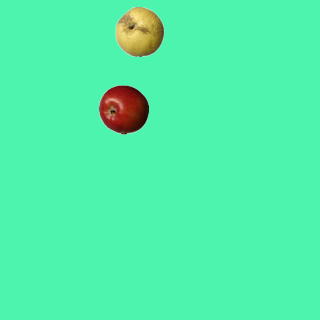Apple Braeburn: (98, 84, 148, 134)
Apple Golden 1: (114, 6, 164, 56)
